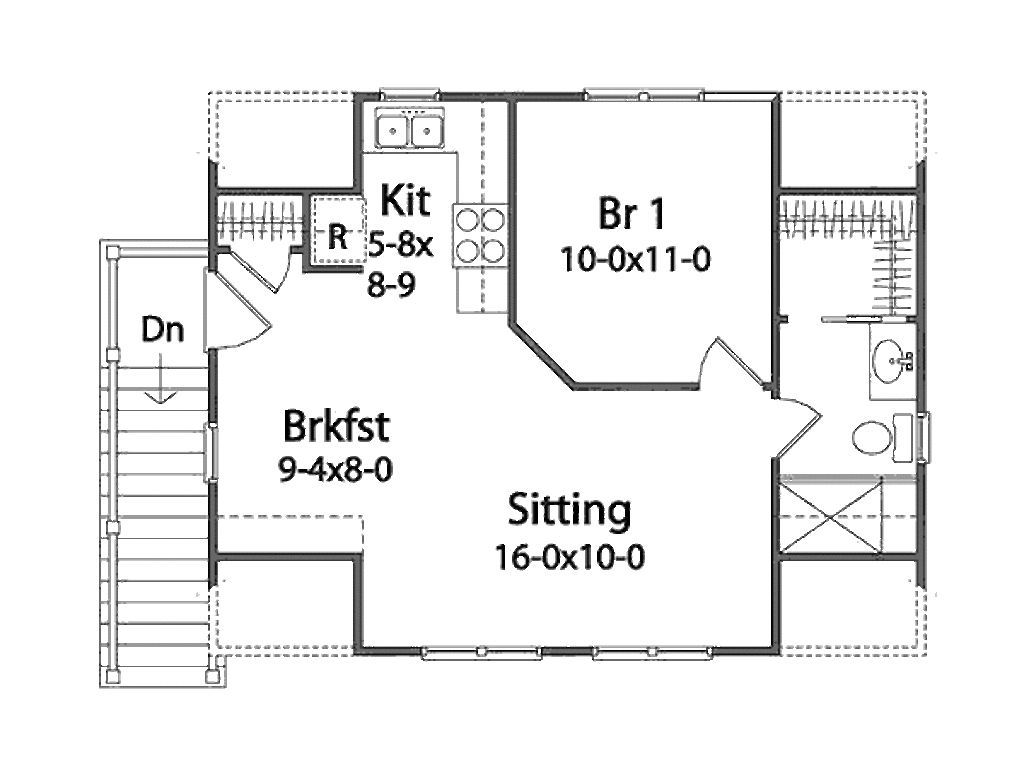door: (196, 269, 274, 355), (688, 337, 769, 396), (768, 393, 836, 457), (226, 244, 303, 293)
large_sink: (849, 411, 919, 471)
small_sink: (866, 322, 921, 405)
stairs: (93, 344, 229, 692)
twin_sink: (378, 102, 447, 149)
window: (585, 87, 710, 106), (423, 644, 548, 662), (590, 643, 713, 659)
